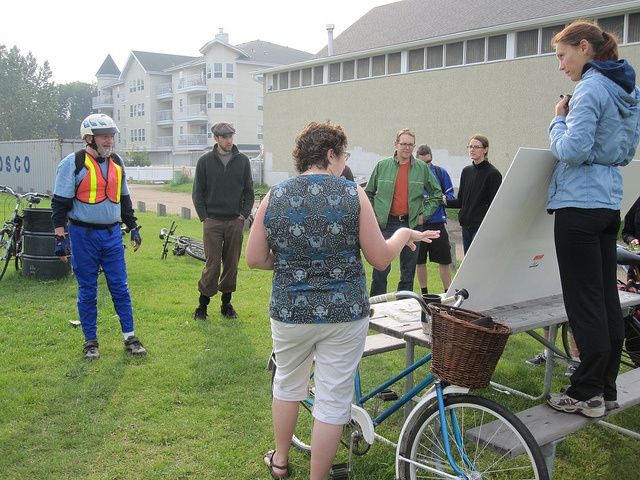non-vehicle: (292, 285, 549, 474), (559, 245, 639, 368), (2, 191, 49, 282), (158, 221, 205, 262)
